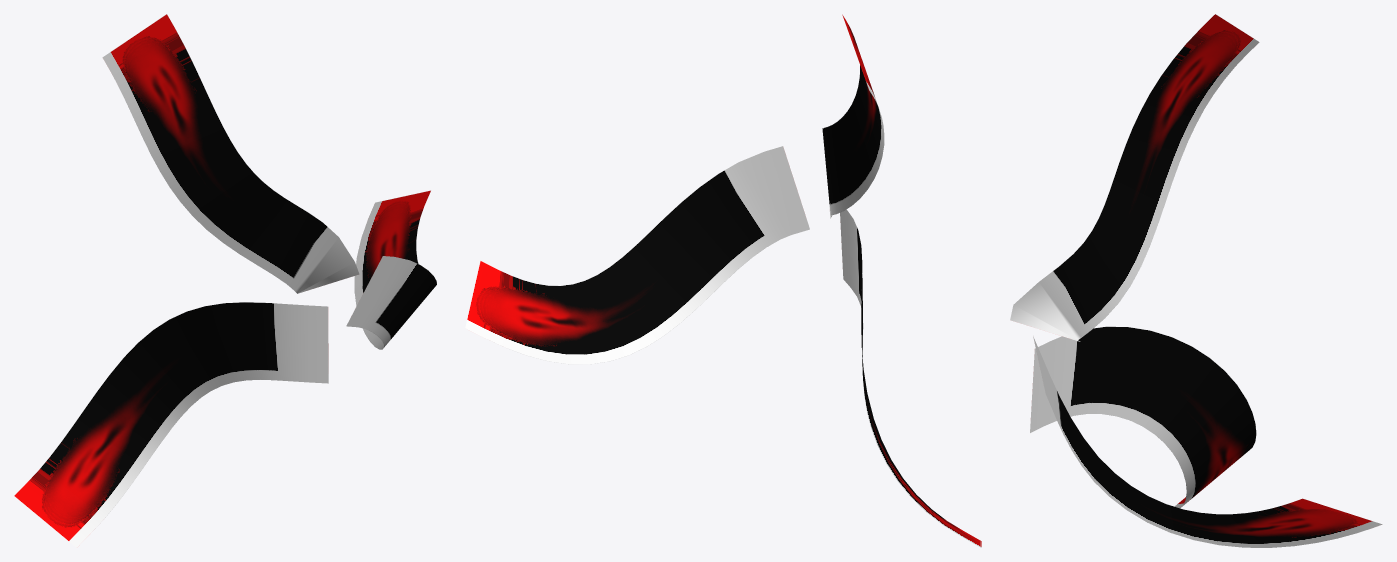
File: yaowu_1.FBX
3 views of the same model, side by side, from view 1: azimuth 30°, elevation 25°; view 2: azimuth 150°, elevation 25°; view 3: azimuth 270°, elevation 25° (orthographic). The views are drawn at different scales.
Visible parts, largest first — view 1: yaowu_1; view 2: yaowu_1; view 3: yaowu_1.
Part boxes in pixels (box(x1,y1,x2,y2)): yaowu_1: box(14, 14, 436, 547); yaowu_1: box(465, 14, 981, 547); yaowu_1: box(1010, 14, 1382, 547).
Bounding box in the file's own units: 248 × 262 × 158.
